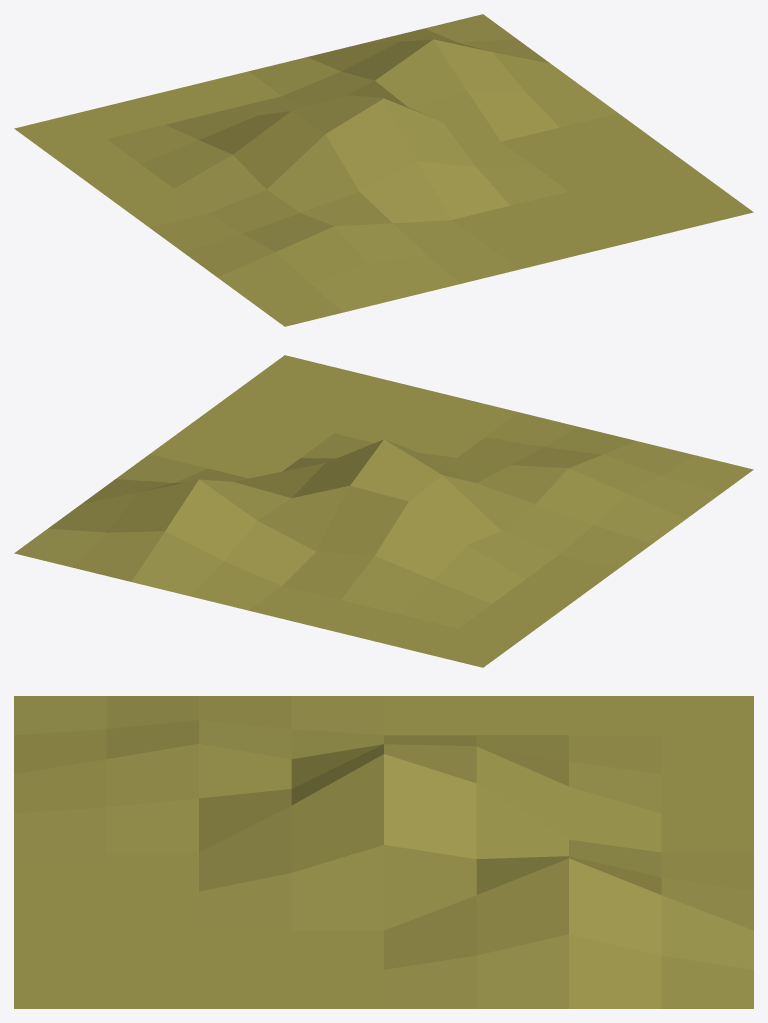
Rendered from Terrain_2_Yellow.fbx.
3 views of the same model, one above another, from view 1: azimuth 30°, elevation 25°; view 2: azimuth 150°, elevation 25°; view 3: azimuth 270°, elevation 25° (orthographic). The views are drawn at different scales.
Visible parts, largest first — view 1: Terrain_2_Yellow; view 2: Terrain_2_Yellow; view 3: Terrain_2_Yellow.
Part boxes in pixels (x1,y1,x2,y2): Terrain_2_Yellow: (14, 14, 753, 326); Terrain_2_Yellow: (14, 355, 753, 667); Terrain_2_Yellow: (14, 696, 753, 1008).
Bounding box in the file's own units: 2000 × 294 × 2000.
